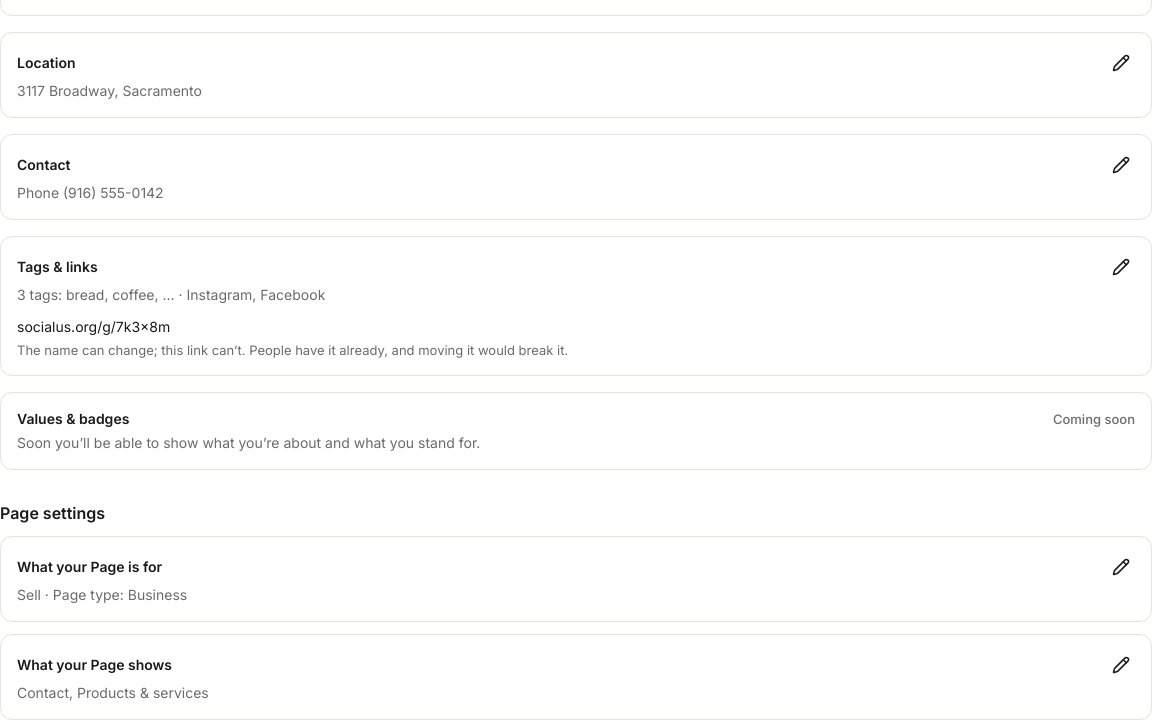
Test: #453 — one pencil per card, in its header › a pencil opens that section only, and Save saves it and closes
This screenshot has width=1152, height=720.
(page scrolled)
Click the button named "Edit What your Page is for" at (1121, 567), box x1=1099 y1=545 x2=1143 y2=589
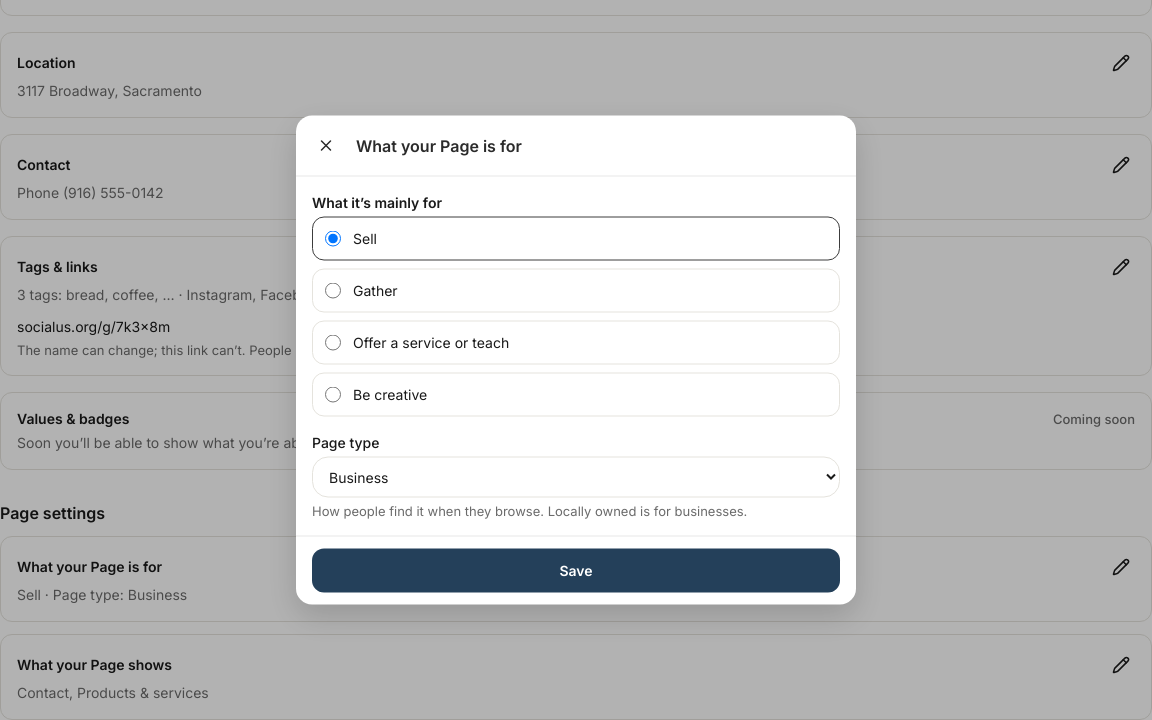
Expected: the dialog "What your Page is for" is shown, x1=296 y1=116 x2=856 y2=604
Click the button with test id "sheet-save" at (576, 570), box x1=312 y1=548 x2=840 y2=592
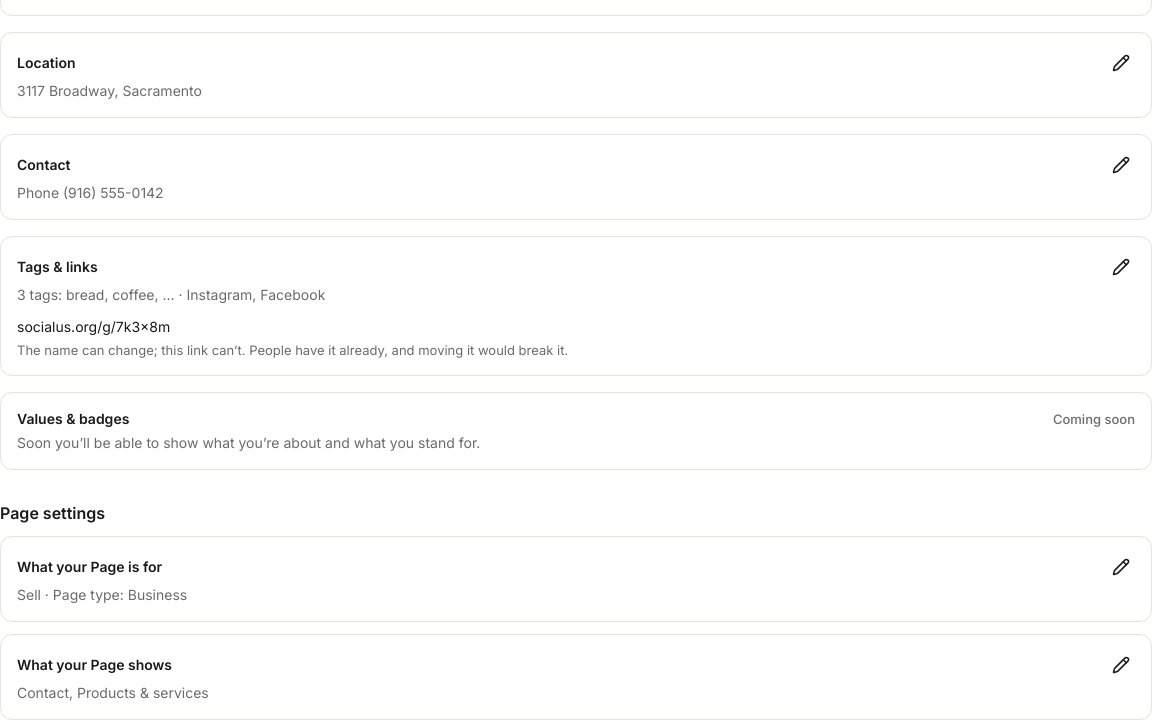
Expected: the dialog is gone
